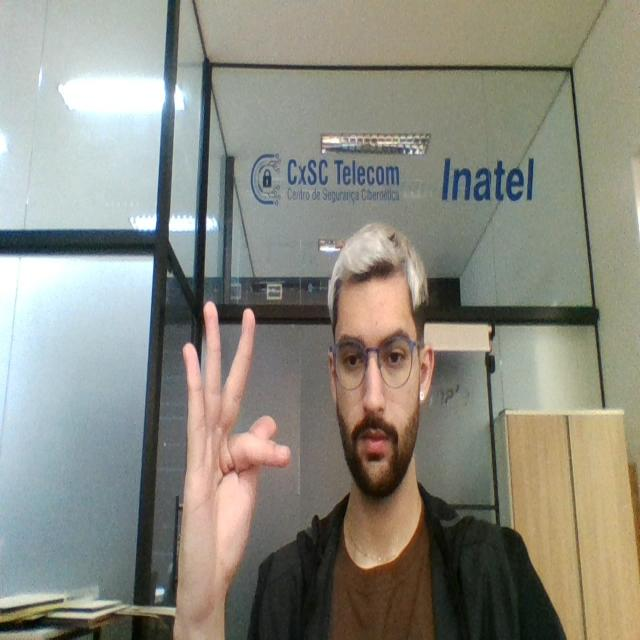F: (171, 293, 294, 599)
